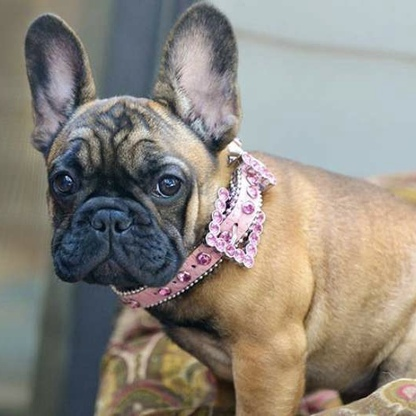bulldog: (19, 7, 414, 413)
